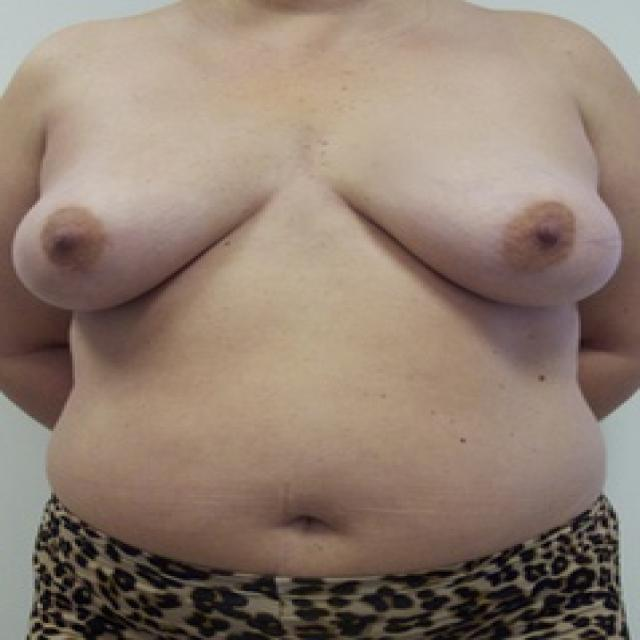Seno ileso: (314, 127, 628, 326), (6, 126, 298, 332)
